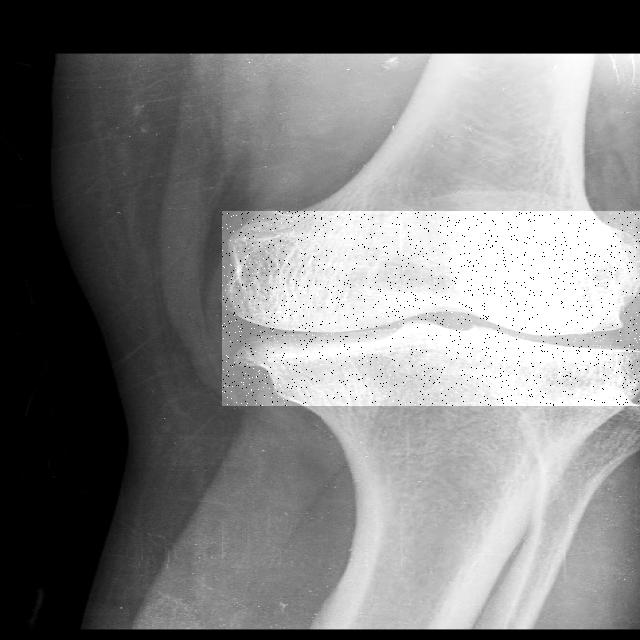osteo: (222, 211, 640, 406)
